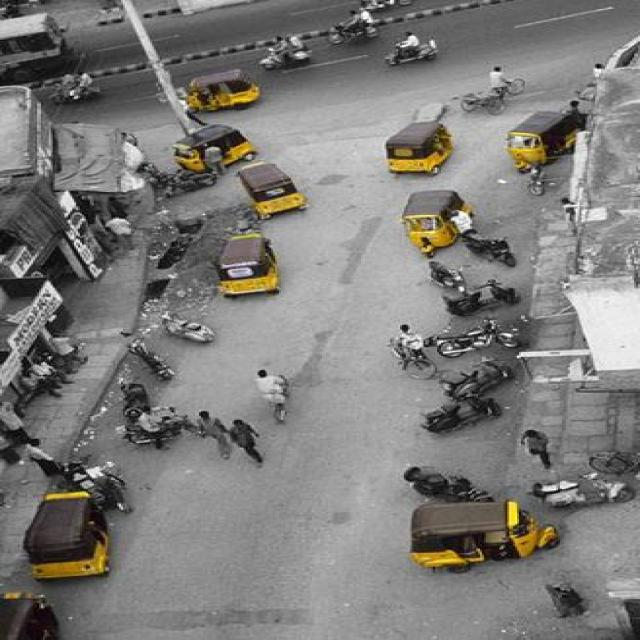autorickshaw: (412, 500, 558, 569), (25, 491, 109, 579), (402, 190, 473, 256), (507, 111, 578, 172), (173, 124, 255, 174), (238, 162, 309, 218), (219, 232, 280, 296), (387, 121, 454, 174), (191, 69, 259, 111)
